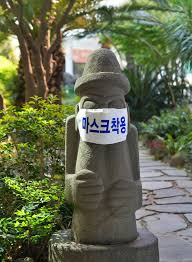Stone Statue: (43, 48, 162, 262)
